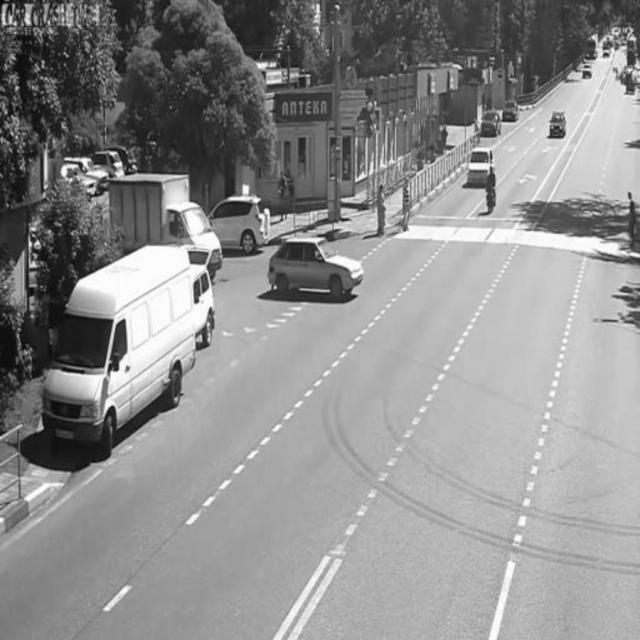person: (621, 187, 640, 256), (375, 178, 389, 244), (399, 175, 414, 231)
vehicle: (40, 246, 194, 454), (108, 173, 222, 255), (266, 239, 367, 300), (208, 194, 269, 255), (466, 142, 492, 189), (482, 162, 499, 216), (477, 106, 503, 136), (547, 108, 569, 138), (502, 99, 522, 125), (580, 60, 595, 78)
